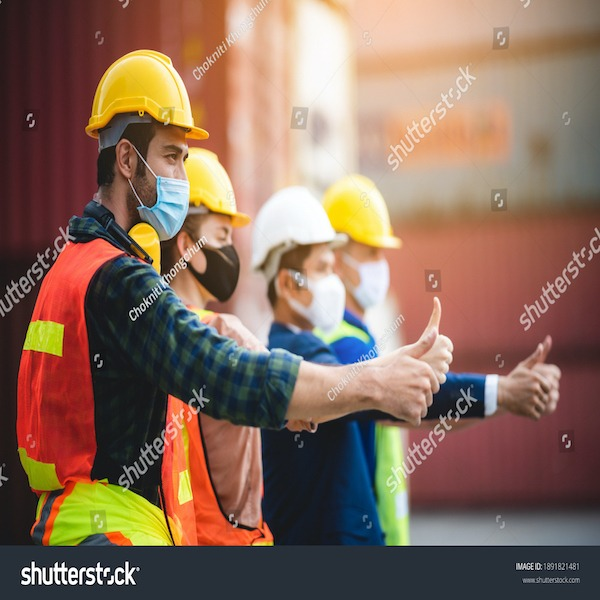helmet: (85, 50, 204, 131), (320, 177, 412, 247), (252, 189, 336, 251), (190, 148, 246, 221)
vest: (20, 244, 172, 546), (166, 302, 268, 544)
